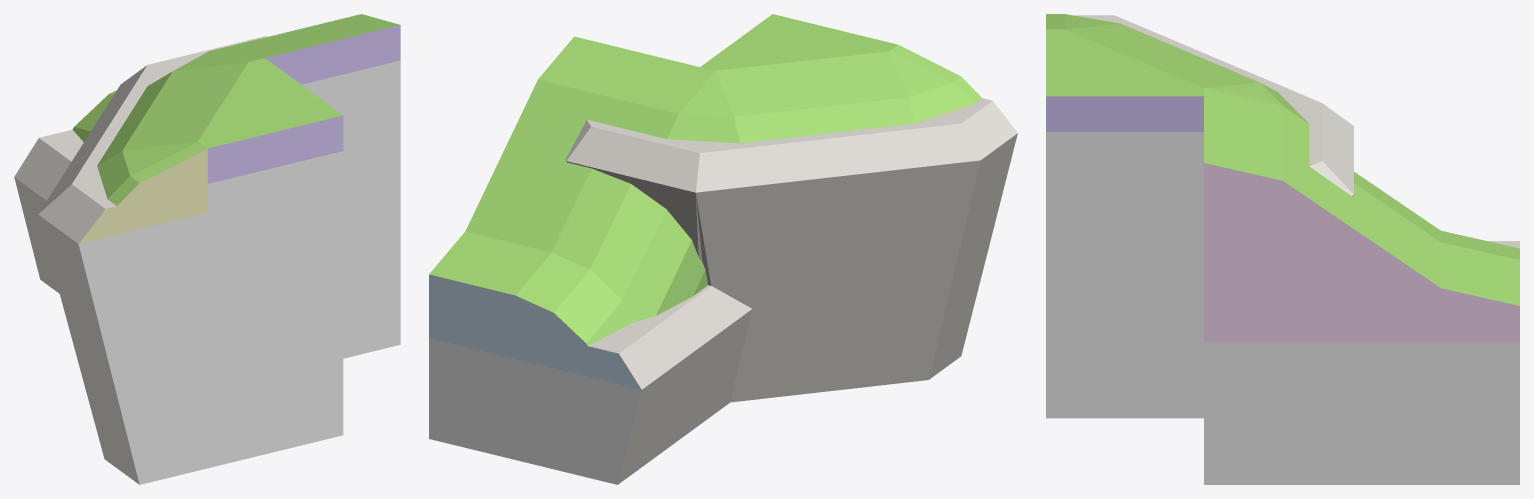
File: Waterfall_Right_Top_Terrain_3x3.glb
3 views of the same model, side by side, from view 1: azimuth 30°, elevation 25°; view 2: azimuth 150°, elevation 25°; view 3: azimuth 270°, elevation 25° (orthographic). The views are drawn at different scales.
Visible parts, largest first — view 1: Waterfall_Right_Top_Terrain_3x3; view 2: Waterfall_Right_Top_Terrain_3x3; view 3: Waterfall_Right_Top_Terrain_3x3.
Boxes of the visible parts, left/top/right/bottom form: Waterfall_Right_Top_Terrain_3x3: left=14, top=14, right=400, bottom=484; Waterfall_Right_Top_Terrain_3x3: left=429, top=14, right=1017, bottom=484; Waterfall_Right_Top_Terrain_3x3: left=1046, top=14, right=1519, bottom=484.
Size of the model in its own units: 295 by 225 by 300.
